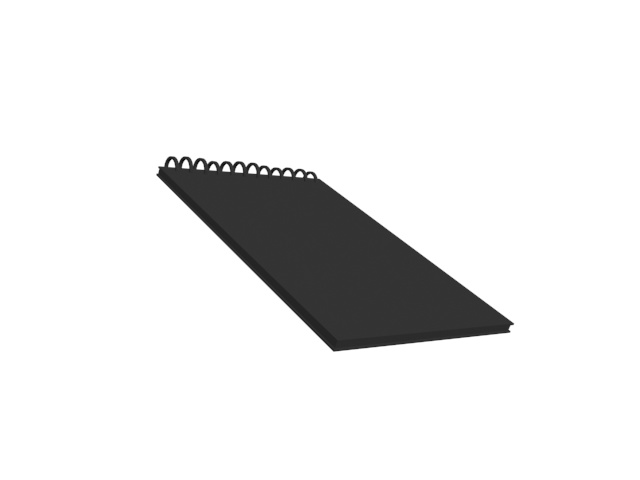paper_notebook: (153, 153, 520, 352)
